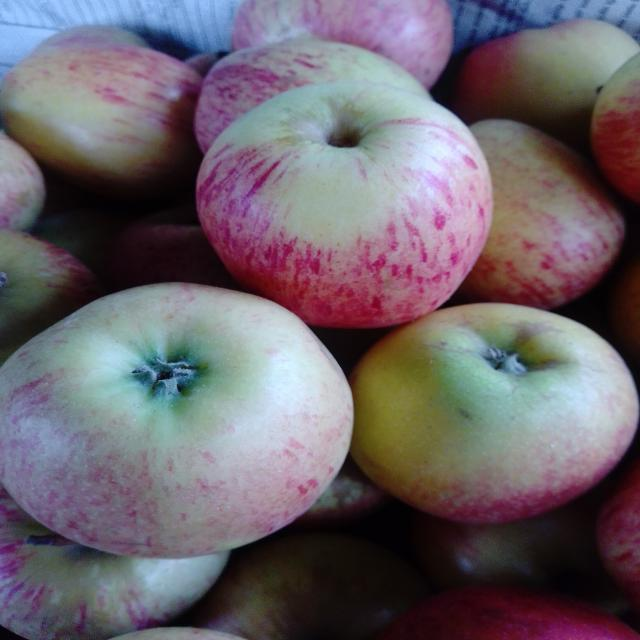Fresh Apple: (7, 276, 355, 552), (190, 75, 500, 328), (348, 300, 640, 533), (3, 20, 198, 200), (470, 105, 632, 310)
